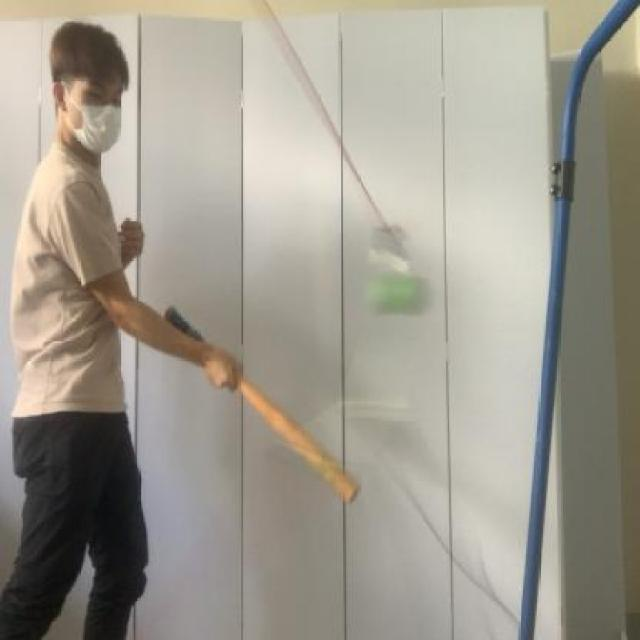baseball: (362, 258, 438, 322)
